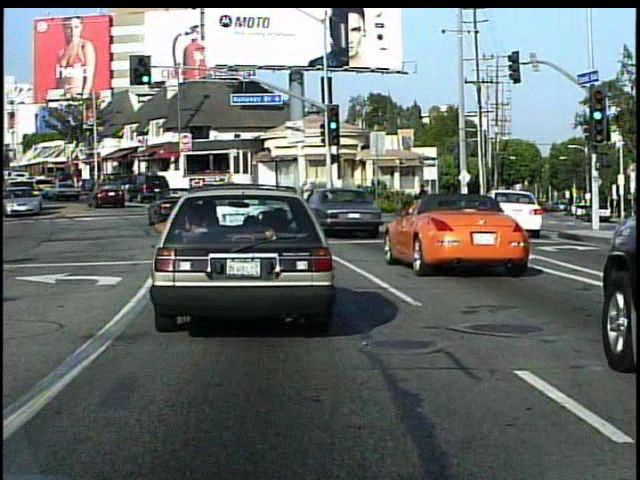person: (415, 181, 432, 221)
